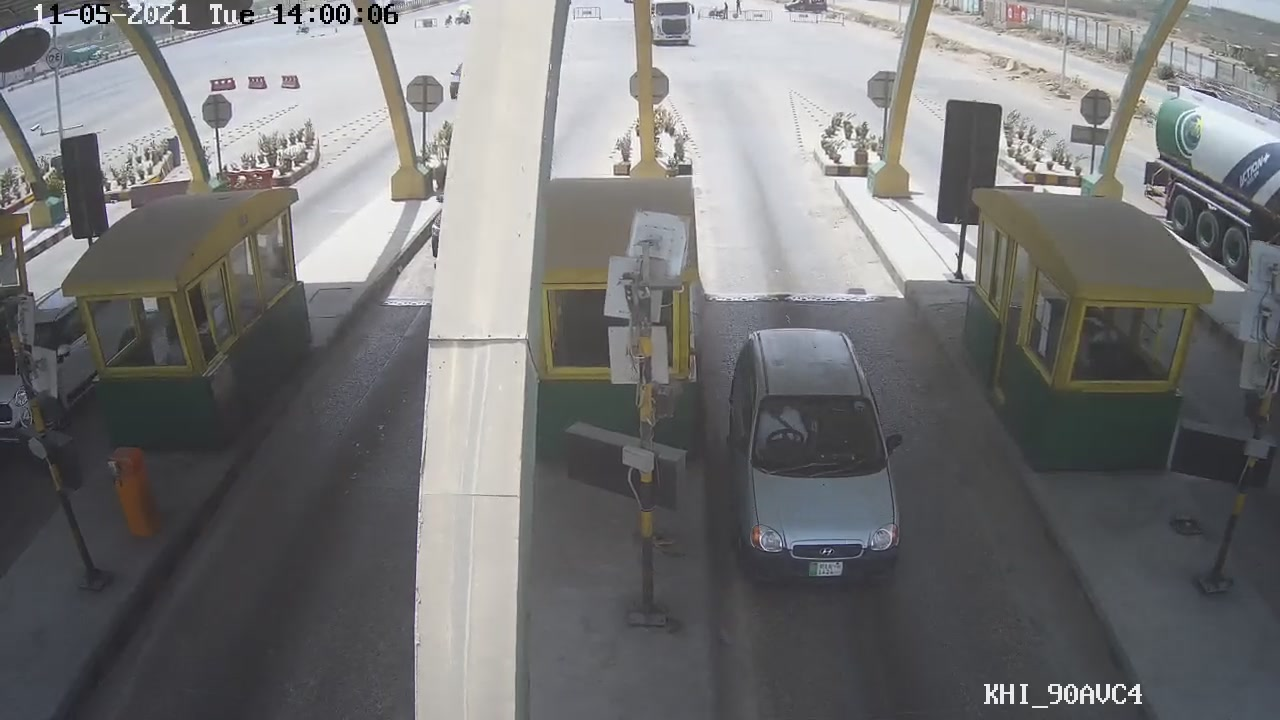F1: (722, 316, 906, 584)
